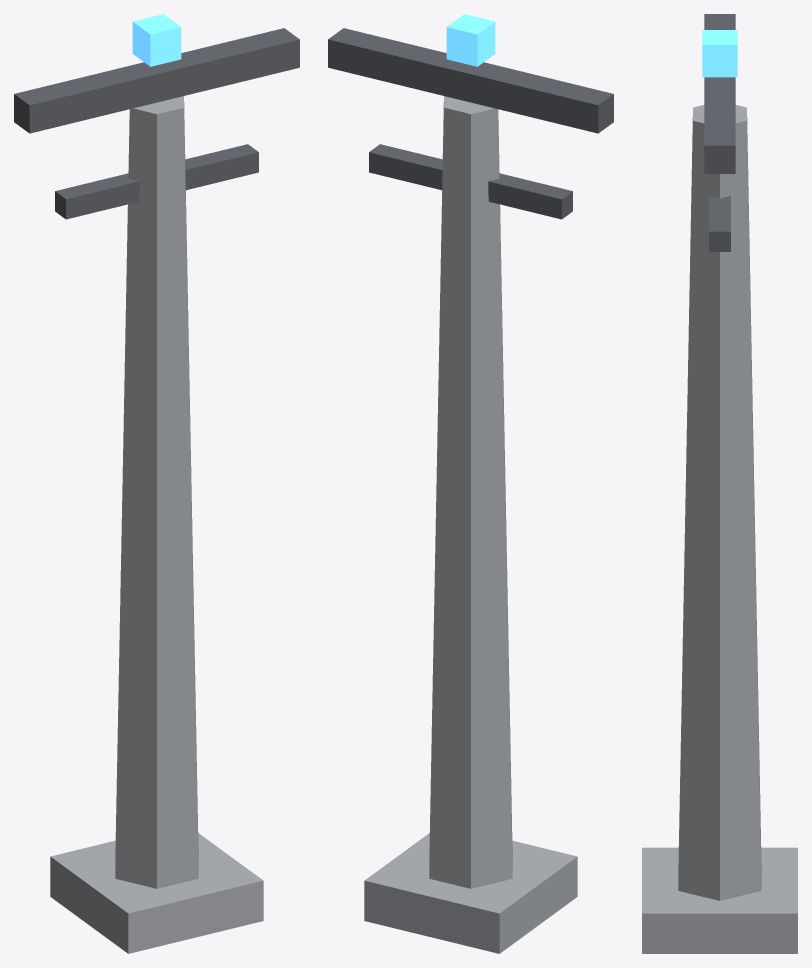
The model's file is Pylon.glb.
3 views of the same model, side by side, from view 1: azimuth 30°, elevation 25°; view 2: azimuth 150°, elevation 25°; view 3: azimuth 270°, elevation 25° (orthographic).
Parts seen in each view (by area): view 1: Pylon; view 2: Pylon; view 3: Pylon.
Boxes of the visible parts, x1=… form: Pylon: x1=14, y1=14, x2=299, y2=953; Pylon: x1=328, y1=14, x2=613, y2=953; Pylon: x1=642, y1=14, x2=797, y2=953.
Size of the model in its own units: 1.4 by 4.38 by 0.7.
